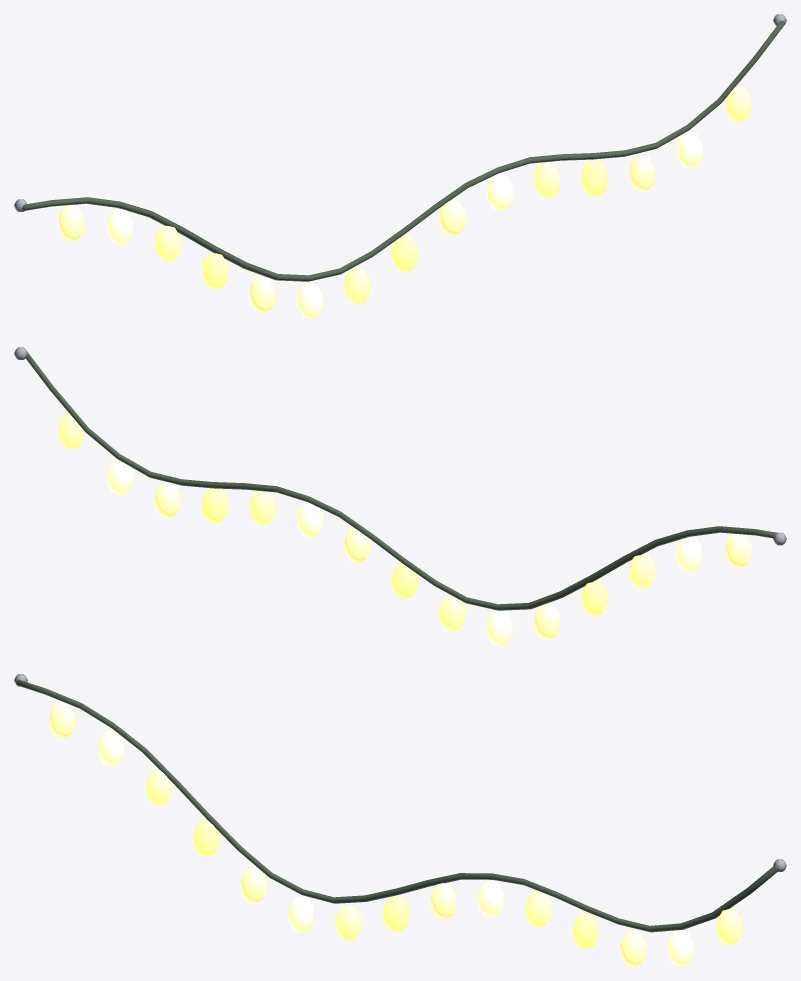
The model's file is fairy_lights.glb.
3 renders of one model, top to bottom at view 1: azimuth 30°, elevation 25°; view 2: azimuth 150°, elevation 25°; view 3: azimuth 330°, elevation 25°, orthographic.
Visible parts, largest first — view 1: bulbs, fairy_lights; view 2: bulbs, fairy_lights; view 3: bulbs, fairy_lights.
Boxes of the visible parts, x1=… form: bulbs: x1=58, y1=86, x2=751, y2=318; fairy_lights: x1=14, y1=14, x2=786, y2=281; bulbs: x1=58, y1=413, x2=751, y2=645; fairy_lights: x1=14, y1=347, x2=786, y2=610; bulbs: x1=49, y1=702, x2=742, y2=966; fairy_lights: x1=14, y1=674, x2=786, y2=932.
Size of the model in its own units: 1.52 by 0.3507 by 0.0498.
